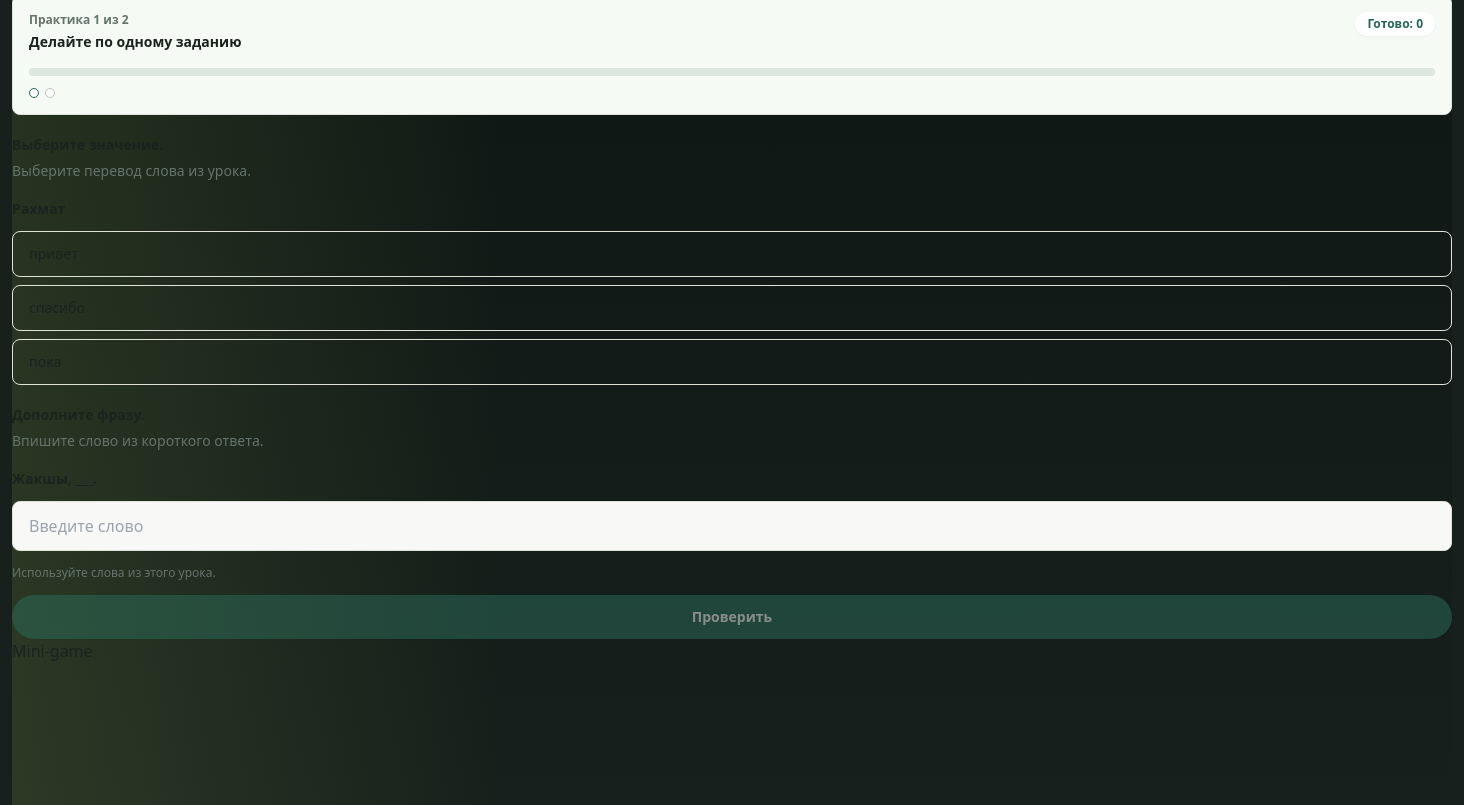
Test: PracticeSection › marks a missed multiple choice item corrected after a correct retry
Click the button "привет" at (53, 254), box x1=12 y1=231 x2=1452 y2=277
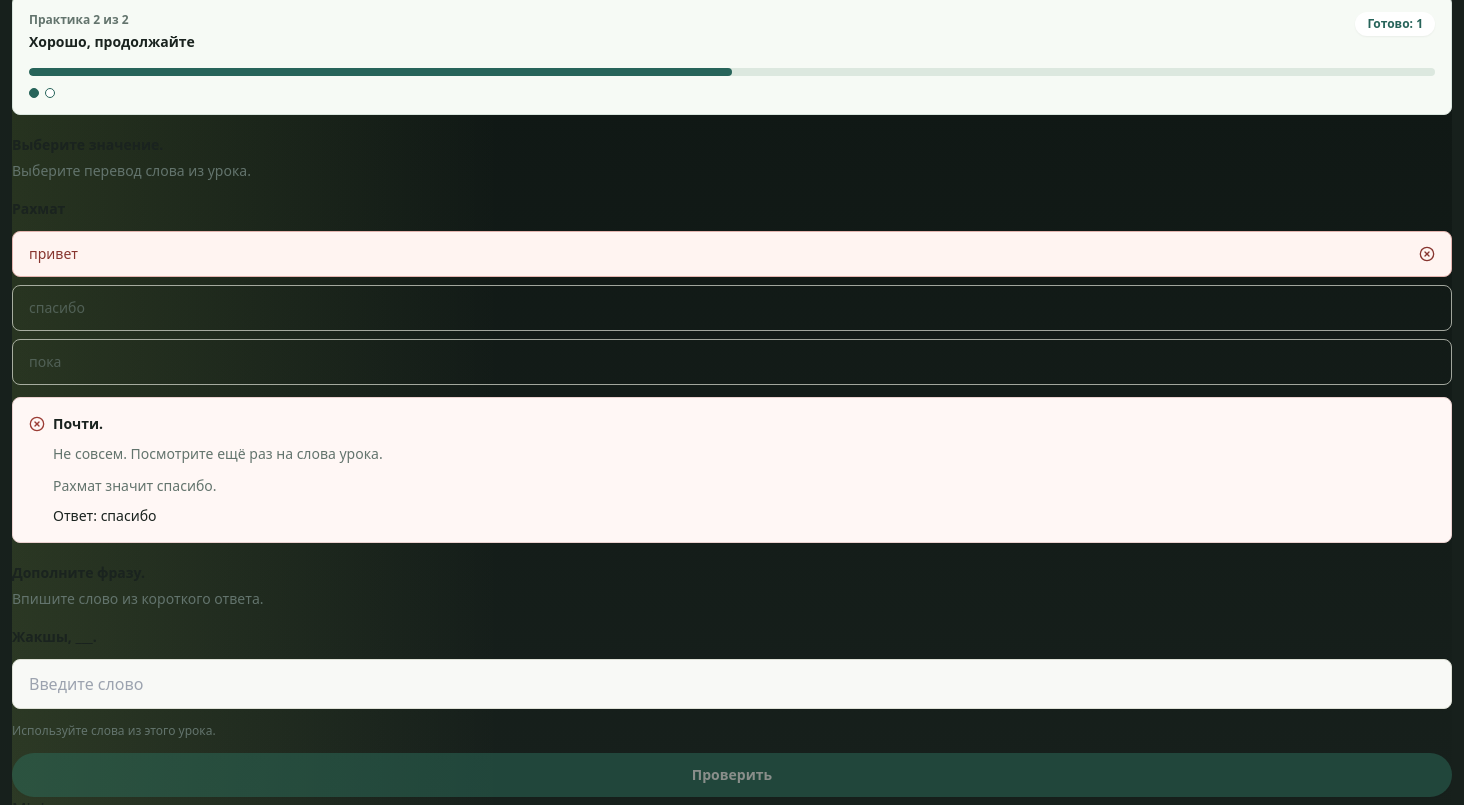
Type "рахмат" into the field labelled "Жакшы, ___." at (732, 684), box x1=12 y1=659 x2=1452 y2=709
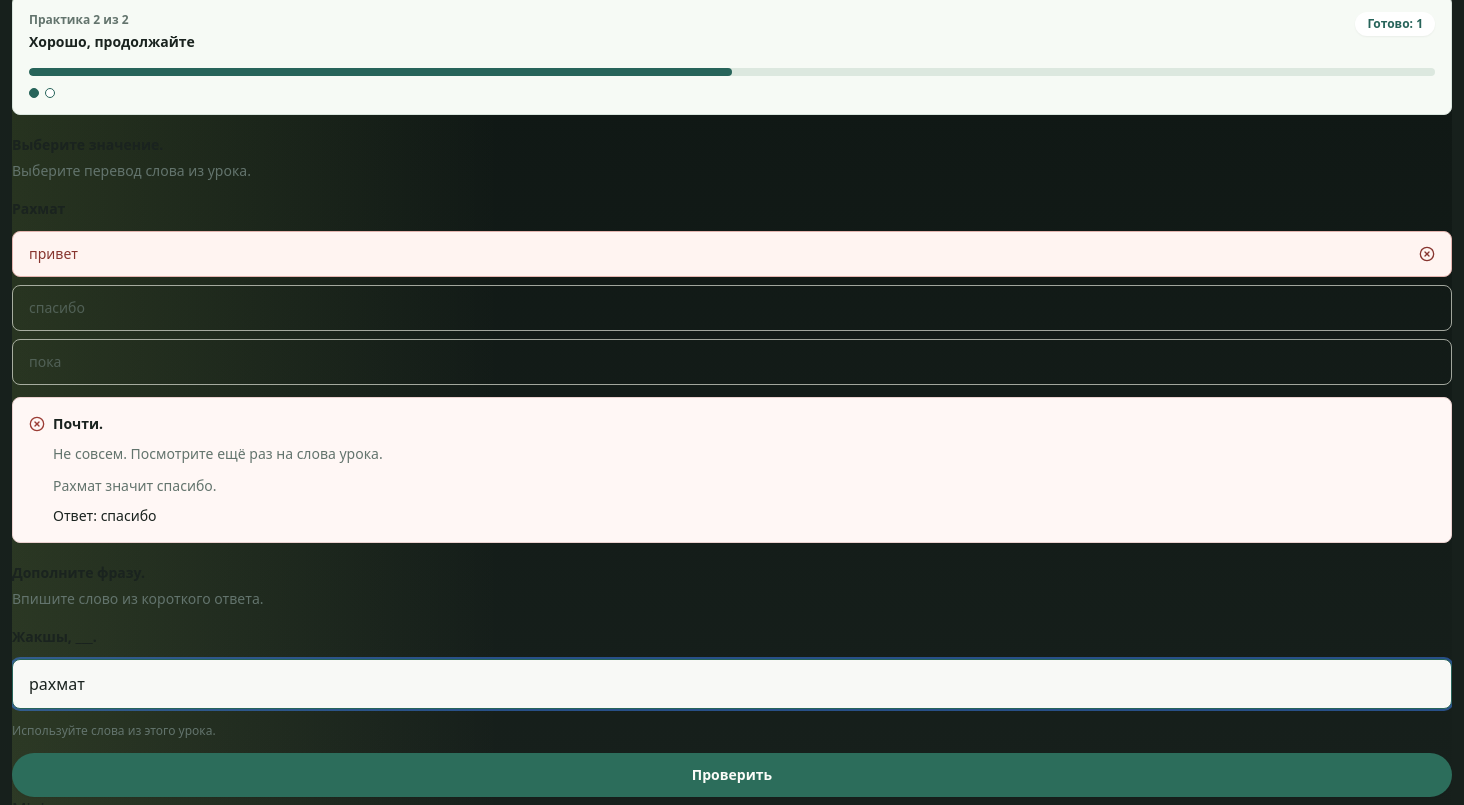
Click the button "Проверить" at (732, 775), box x1=12 y1=753 x2=1452 y2=797
(page scrolled)
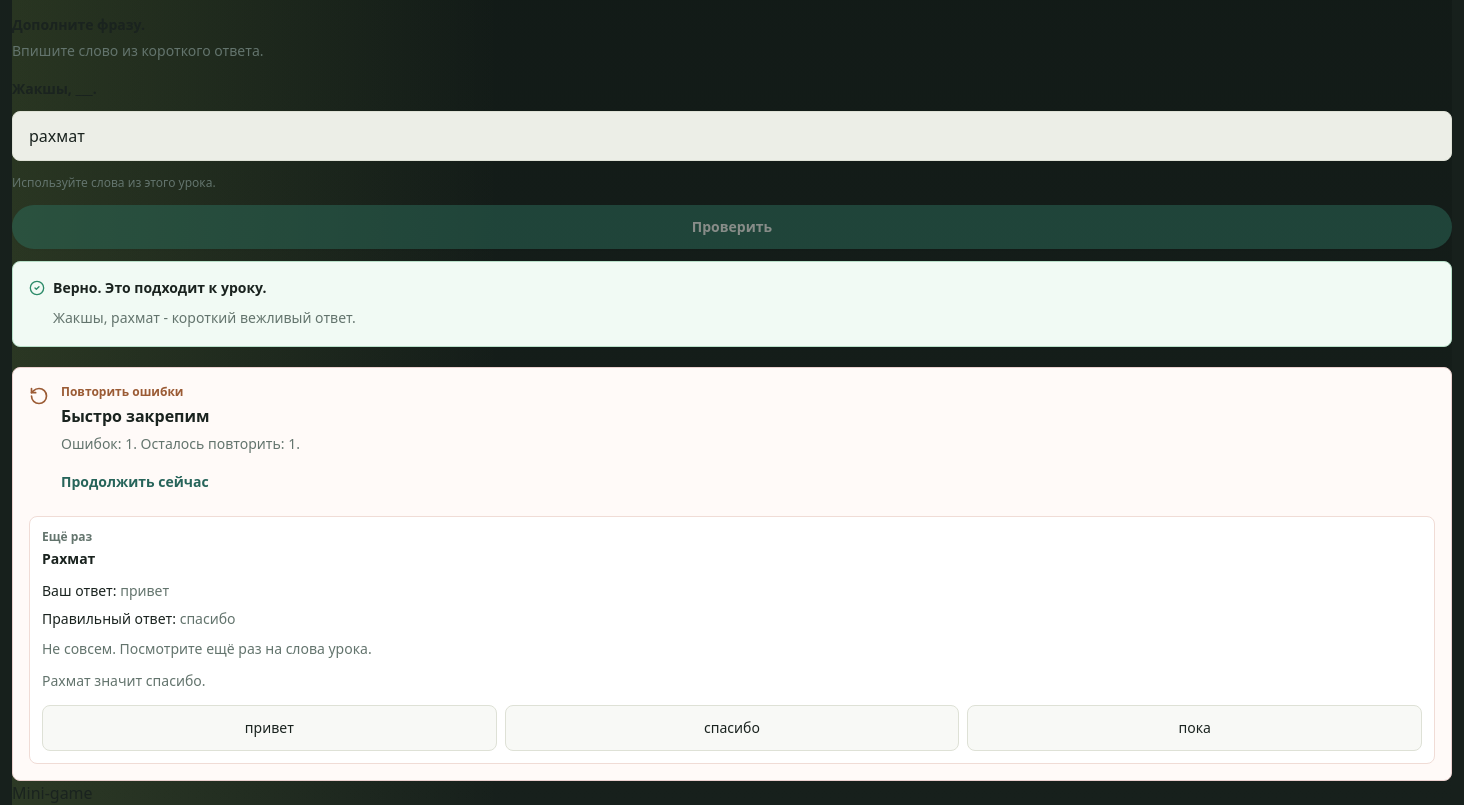
Click the button "спасибо" at (732, 728), box x1=505 y1=705 x2=959 y2=751
(page scrolled)
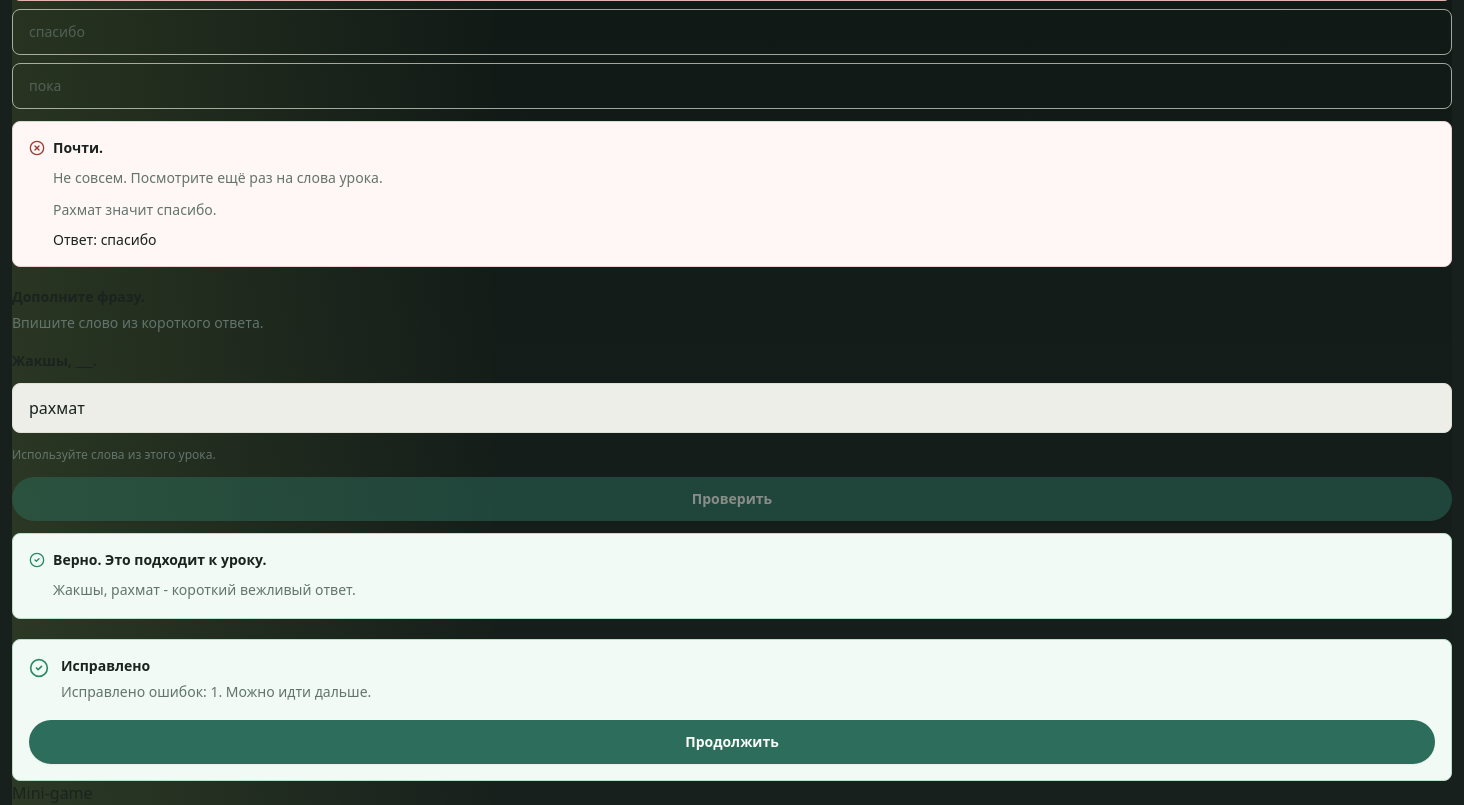
expect the button with test id "practice-continue" is shown: met, box x1=29 y1=720 x2=1435 y2=764
expect the element with test id "missed-corrected" shows "Исправлено": met, box x1=61 y1=656 x2=150 y2=675
expect the element with test id "missed-corrected" shows "Исправлено ошибок: 1": met, box x1=61 y1=682 x2=371 y2=701
